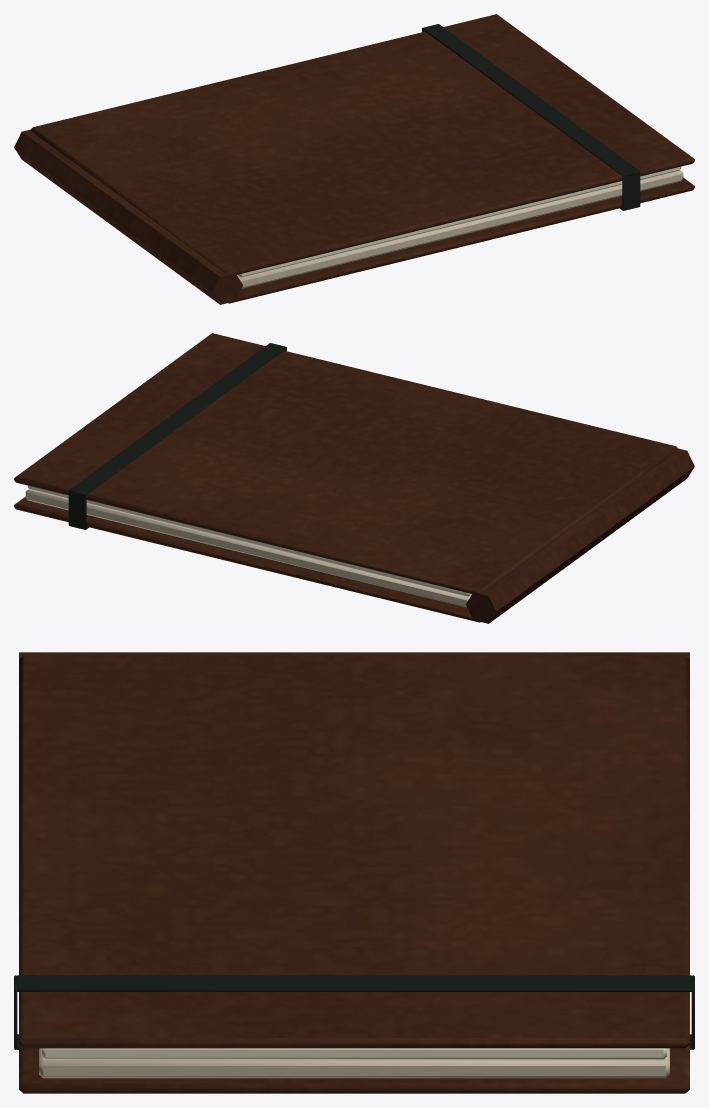
The model's file is arrival-folio.lod1.glb.
3 views of the same model, one above another, from view 1: azimuth 30°, elevation 25°; view 2: azimuth 150°, elevation 25°; view 3: azimuth 270°, elevation 25° (orthographic). The views are drawn at different scales.
Parts seen in each view (by area): view 1: Folio_Cover_Leather • tobacco, arrival_folio_Leather • tobacco, arrival_folio_Trim • brass and bronze, Folio_Cover_Trim • brass and bronze; view 2: Folio_Cover_Leather • tobacco, arrival_folio_Leather • tobacco, arrival_folio_Trim • brass and bronze, Folio_Cover_Trim • brass and bronze; view 3: Folio_Cover_Leather • tobacco, arrival_folio_Trim • brass and bronze, arrival_folio_Leather • tobacco, Folio_Cover_Trim • brass and bronze.
Boxes of the visible parts, x1,y1,x2,y2 form: Folio_Cover_Leather • tobacco: (30, 14, 694, 274); arrival_folio_Leather • tobacco: (14, 129, 694, 304); arrival_folio_Trim • brass and bronze: (237, 24, 683, 288); Folio_Cover_Trim • brass and bronze: (422, 24, 638, 175); Folio_Cover_Leather • tobacco: (14, 333, 678, 594); arrival_folio_Leather • tobacco: (14, 448, 694, 623); arrival_folio_Trim • brass and bronze: (25, 343, 471, 607); Folio_Cover_Trim • brass and bronze: (70, 343, 286, 494); Folio_Cover_Leather • tobacco: (19, 655, 689, 1048); arrival_folio_Trim • brass and bronze: (14, 975, 694, 1078); arrival_folio_Leather • tobacco: (19, 652, 689, 1093); Folio_Cover_Trim • brass and bronze: (17, 975, 691, 991).
Bounding box in the file's own units: 0.3305 × 0.0236 × 0.2386.
2 materials, 2 textured.
